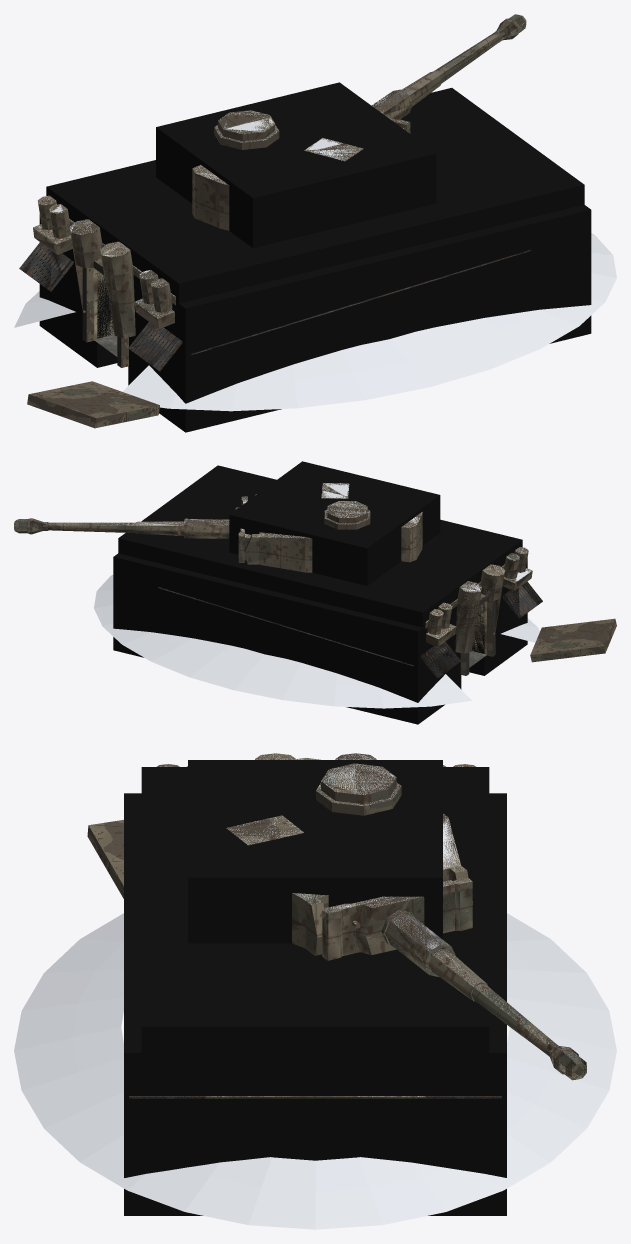
The model's file is tankhull.fbx.
The picture shows the model from 3 angles, top to bottom: view 1: azimuth 30°, elevation 25°; view 2: azimuth 150°, elevation 25°; view 3: azimuth 270°, elevation 25°; orthographic projection. The views are drawn at different scales.
Parts seen in each view (by area): view 1: col_side1, col_roof, col_turret, snowbank, tankhull, inside, col_jamb-1, col_side-1, col_jamb1; view 2: col_side-1, col_roof, tankhull, col_turret, snowbank, inside, col_jamb1, col_side1, col_jamb-1; view 3: snowbank, col_roof, col_turret, col_front, tankhull, col_side1, col_side-1, inside.
Part boxes in pixels (x1,y1,x2,y2): col_side1: (154, 205, 591, 432); col_roof: (46, 88, 584, 303); col_turret: (156, 82, 436, 248); snowbank: (14, 233, 616, 411); tankhull: (19, 14, 531, 371); inside: (27, 258, 159, 428); col_jamb-1: (70, 249, 117, 367); col_side-1: (39, 214, 70, 348); col_jamb1: (128, 275, 154, 385); col_side-1: (113, 553, 441, 724); col_roof: (118, 465, 522, 627); tankhull: (14, 483, 542, 678); col_turret: (229, 461, 440, 585); snowbank: (94, 575, 539, 708); inside: (460, 594, 616, 675); col_jamb1: (469, 587, 504, 675); col_side1: (504, 559, 527, 661); col_jamb-1: (441, 606, 461, 707); snowbank: (14, 913, 616, 1229); col_roof: (141, 767, 489, 1052); col_turret: (188, 760, 442, 943); col_front: (205, 1053, 425, 1164); tankhull: (129, 753, 586, 1098); col_side1: (124, 793, 205, 1215); col_side-1: (425, 793, 506, 1215); inside: (87, 820, 123, 898).
Bounding box in the file's own units: 16.79 × 5.2 × 10.4.
Materials: 6 (5 with a texture image).
